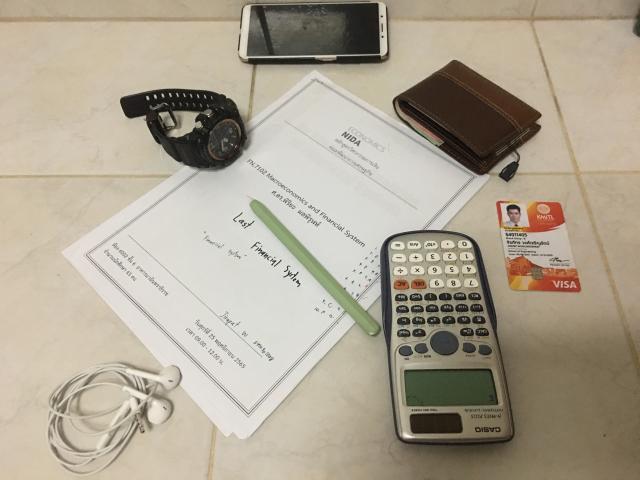Mobile phone: (239, 2, 389, 64)
Wallet: (392, 60, 541, 175)
Watch: (120, 89, 246, 168)
paper: (62, 71, 488, 439)
wire: (48, 364, 181, 475)
